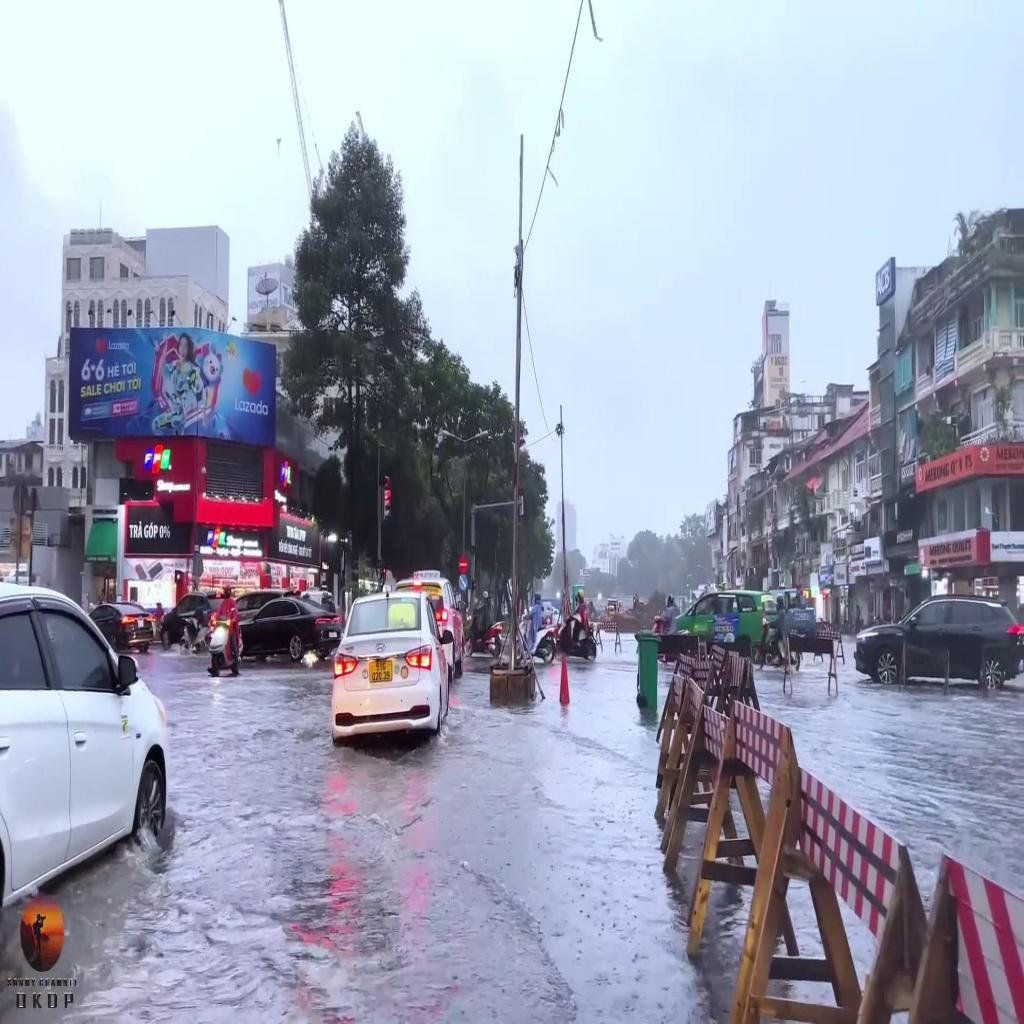cam_xe_di_nguoc_chieu: (458, 554, 468, 572)
huong_phai_di_vuot_chuong_ngai_vat_phai: (459, 574, 468, 592)
